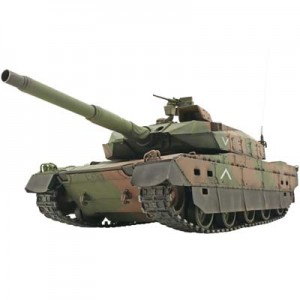Battle Tank: (2, 54, 300, 239)
